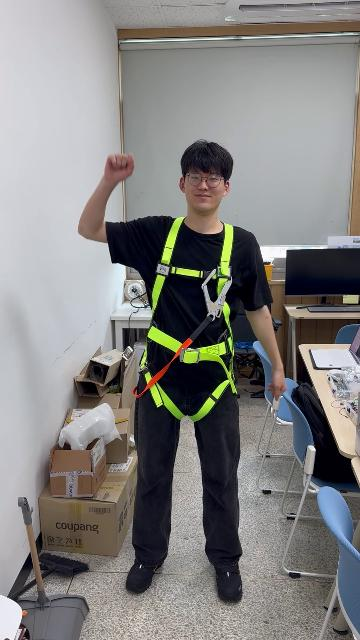helmet_not_worn: (177, 139, 237, 194)
shoe_worn: (126, 555, 166, 593), (213, 565, 242, 602)
vest_worn: (137, 224, 241, 416)
